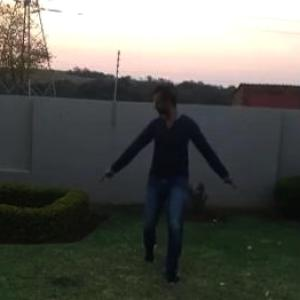land: (85, 66, 276, 299)
